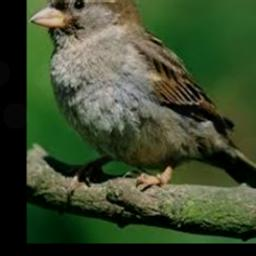Sparrow: (28, 0, 256, 196)
